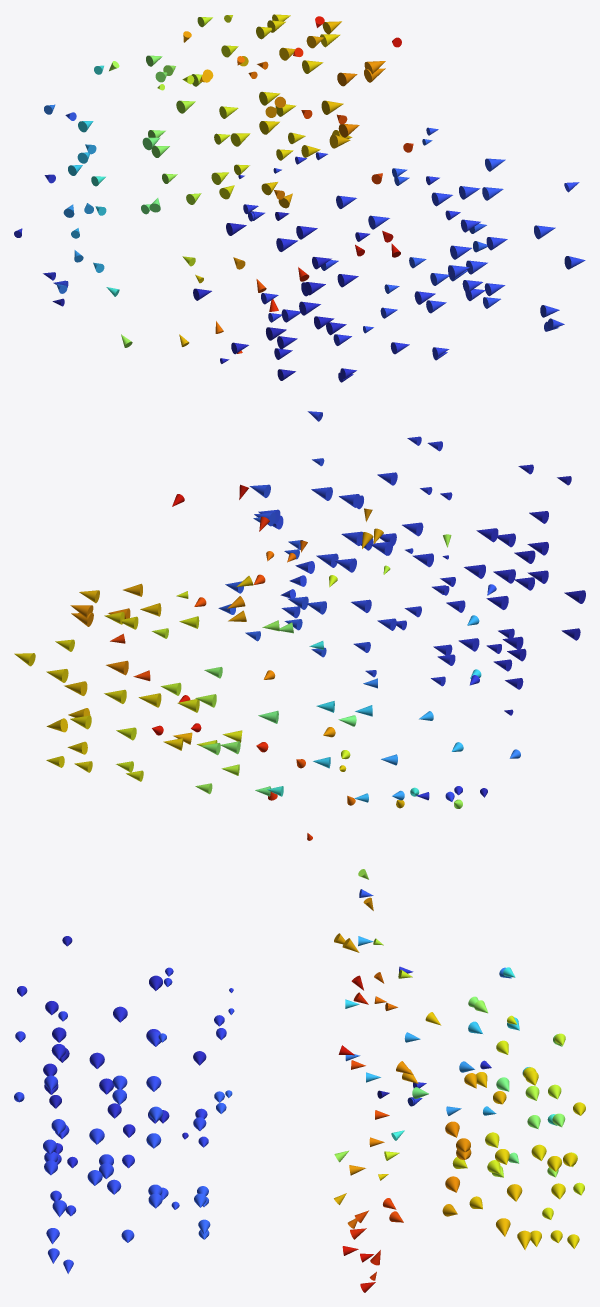
Rendered from LineasCorrienteN2-H2O_mh2-6.88_V-0.8.glb.
The picture shows the model from 3 angles, top to bottom: view 1: azimuth 30°, elevation 25°; view 2: azimuth 150°, elevation 25°; view 3: azimuth 270°, elevation 25°; orthographic projection. The views are drawn at different scales.
Bounding box in the file's own units: 0.000984 × 0.000812 × 0.00119.
Materials: 2 (2 with a texture image).
